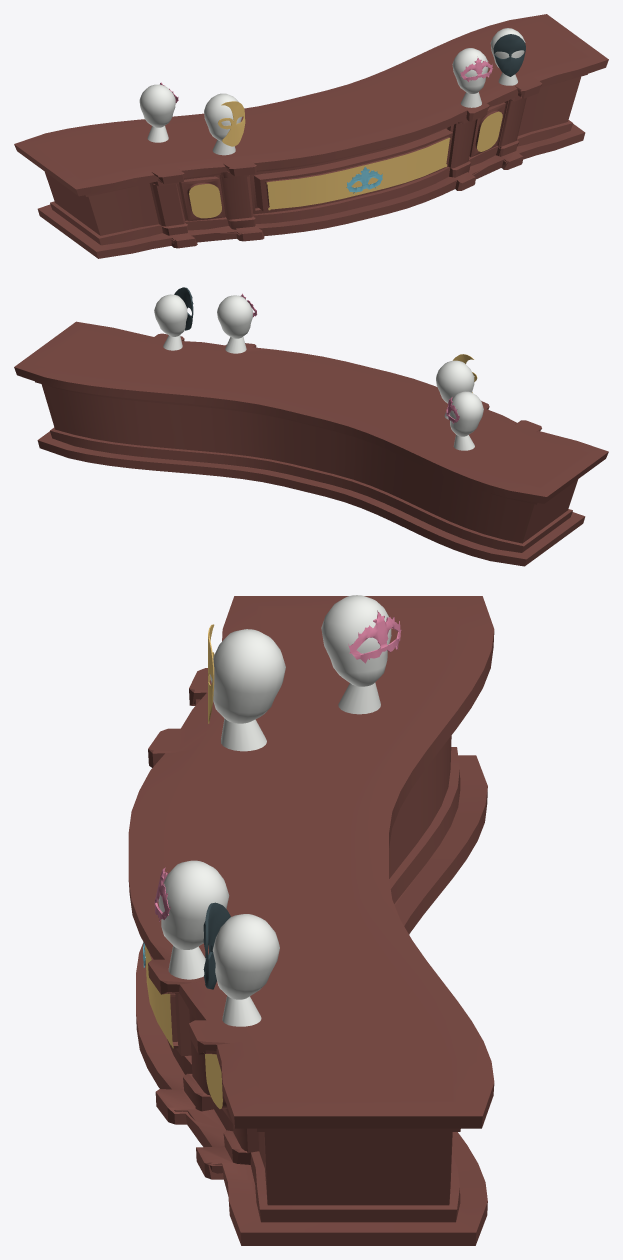
File: SM_Counter_Wood.fbx
3 views of the same model, one above another, from view 1: azimuth 30°, elevation 25°; view 2: azimuth 150°, elevation 25°; view 3: azimuth 270°, elevation 25° (orthographic). The views are drawn at different scales.
Parts seen in each view (by area): view 1: SM_Counter_Wood; view 2: SM_Counter_Wood; view 3: SM_Counter_Wood.
Part boxes in pixels (x1,y1,x2,y2): SM_Counter_Wood: (14,14,608,258); SM_Counter_Wood: (14,287,608,566); SM_Counter_Wood: (128,595,494,1245).
Bounding box in the file's own units: 397 × 94.86 × 118.
